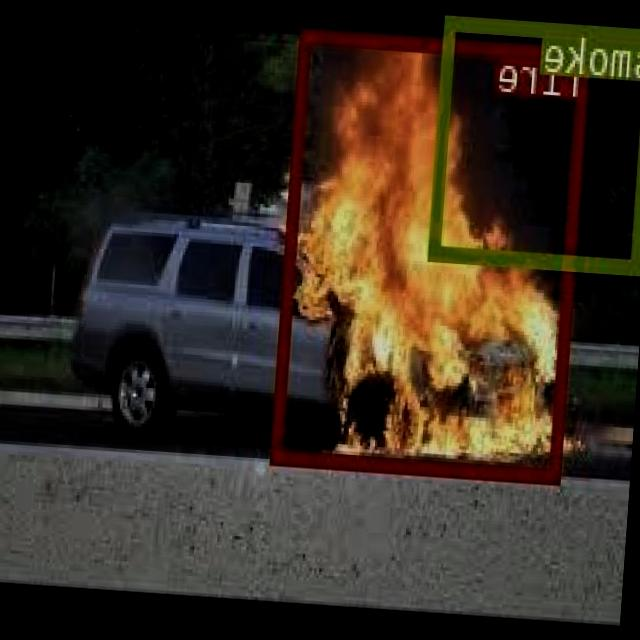fire: (272, 24, 593, 480)
smoke: (430, 13, 640, 270)
